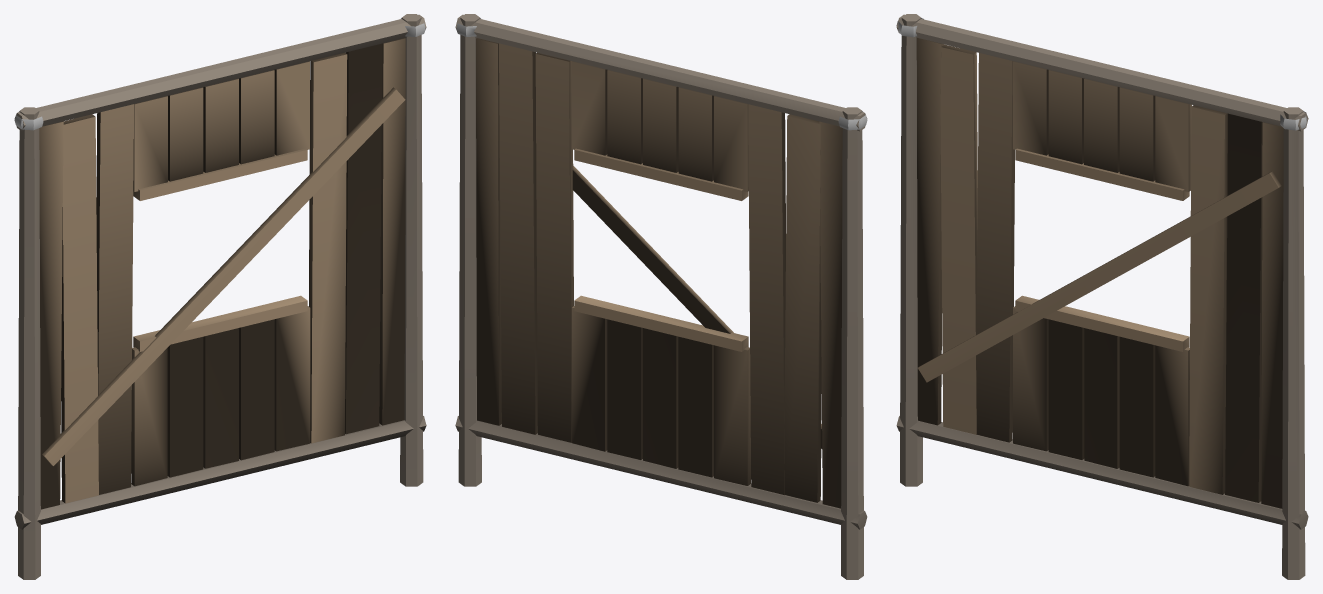
The model's file is muro_ventana.glb.
3 renders of one model, left to right at view 1: azimuth 30°, elevation 25°; view 2: azimuth 150°, elevation 25°; view 3: azimuth 330°, elevation 25°, orthographic.
Visible parts, largest first — view 1: muro_ventana; view 2: muro_ventana; view 3: muro_ventana.
Part boxes in pixels (x1,y1,x2,y2): muro_ventana: [14, 14, 426, 579]; muro_ventana: [455, 14, 867, 579]; muro_ventana: [896, 14, 1308, 579].
Bounding box in the file's own units: 2.43 × 2.65 × 0.1521.
